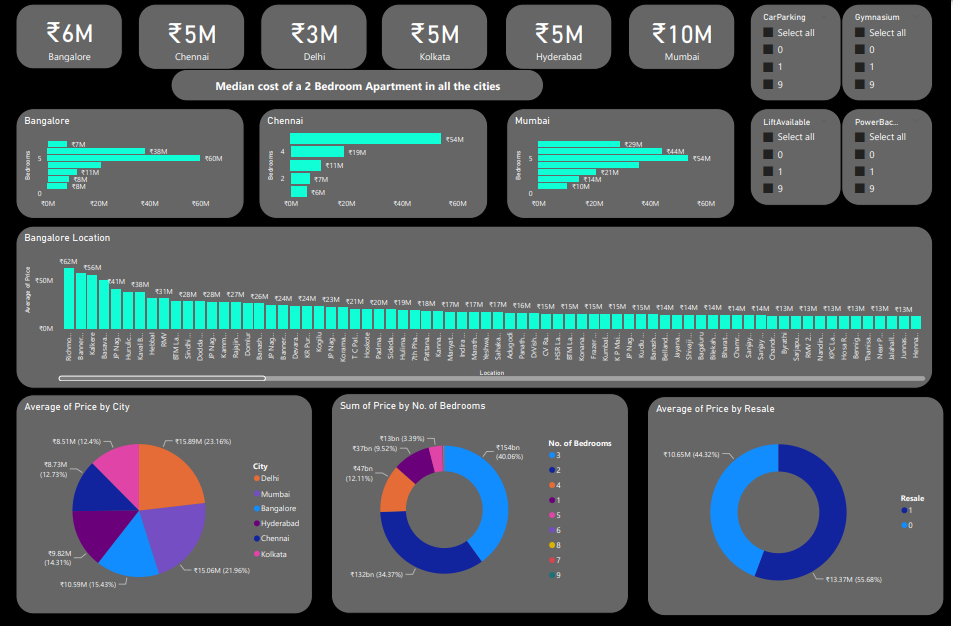

This screenshot's page, from the dashboard's own definition file:
{"tool":"powerbi","page":{"name":"Page 1","canvas":[1600,1200],"ordinal":0},"visuals":[{"type":"card","title":"Bangalore","fields":{"Values":["Median(All_City.Price)"]},"box":[25.5,38.3,180,110],"z":0},{"type":"card","title":"Bangalore","fields":{"Values":["Median(All_City.Price)"]},"box":[232.4,38.3,180,110.6],"z":1},{"type":"card","title":"Bangalore","fields":{"Values":["Median(All_City.Price)"]},"box":[438,38.3,180,110.6],"z":2},{"type":"card","title":"Bangalore","fields":{"Values":["Median(All_City.Price)"]},"box":[640.6,38.3,180,110.6],"z":3},{"type":"card","title":"Bangalore","fields":{"Values":["Median(All_City.Price)"]},"box":[850.4,38.3,180,110.6],"z":4},{"type":"card","title":"Bangalore","fields":{"Values":["Median(All_City.Price)"]},"box":[1057.3,38.3,180,110.6],"z":5},{"type":"textbox","box":[286.7,148.3,628.3,53.3],"z":6},{"type":"clusteredBarChart","title":"Bangalore","fields":{"Category":["All_City.No. of Bedrooms"],"Y":["Avg(All_City.Price)"]},"box":[25.5,214,385.5,185.7],"z":7},{"type":"clusteredBarChart","title":"Chennai","fields":{"Category":["All_City.No. of Bedrooms"],"Y":["Avg(All_City.Price)"]},"box":[435.1,214,385.5,185.7],"z":8},{"type":"clusteredBarChart","title":"Mumbai","fields":{"Y":["Avg(All_City.Price)"],"Category":["All_City.No. of Bedrooms"]},"box":[851.8,214,385.5,185.7],"z":9},{"type":"columnChart","title":"Bangalore Location","fields":{"Category":["All_City.Location"],"Y":["Avg(All_City.Price)"]},"box":[26,412,1544,274],"z":10},{"type":"slicer","fields":{"Values":["All_City.CarParking"]},"box":[1262,38,154,164],"z":11},{"type":"slicer","fields":{"Values":["All_City.Gymnasium"]},"box":[1416,38,154,164],"z":12},{"type":"slicer","fields":{"Values":["All_City.LiftAvailable"]},"box":[1262,214,154,164],"z":13},{"type":"slicer","fields":{"Values":["All_City.PowerBackup"]},"box":[1416,214,154,164],"z":14},{"type":"pieChart","fields":{"Category":["All_City.City"],"Y":["Avg(All_City.Price)"]},"box":[26,696,500,370],"z":15},{"type":"donutChart","fields":{"Y":["Sum(All_City.Price)"],"Category":["All_City.No. of Bedrooms"]},"box":[557.5,694.5,500.8,370.9],"z":16},{"type":"donutChart","fields":{"Category":["All_City.Resale"],"Y":["Avg(All_City.Price)"]},"box":[1089,699.2,500,370],"z":17}]}

Visuals, with their boxes on the page's 1600x1200 design canvas (x1, y1, x2, y2). These are canvas units, not pixel positions in the 953x626 screenshot, which may show the page scaled, cropped or inside an application window:
"Bangalore" card: (x1=26, y1=38, x2=206, y2=148)
"Bangalore" card: (x1=232, y1=38, x2=412, y2=149)
"Bangalore" card: (x1=438, y1=38, x2=618, y2=149)
"Bangalore" card: (x1=641, y1=38, x2=821, y2=149)
"Bangalore" card: (x1=850, y1=38, x2=1030, y2=149)
"Bangalore" card: (x1=1057, y1=38, x2=1237, y2=149)
textbox: (x1=287, y1=148, x2=915, y2=202)
"Bangalore" clusteredBarChart: (x1=26, y1=214, x2=411, y2=400)
"Chennai" clusteredBarChart: (x1=435, y1=214, x2=821, y2=400)
"Mumbai" clusteredBarChart: (x1=852, y1=214, x2=1237, y2=400)
"Bangalore Location" columnChart: (x1=26, y1=412, x2=1570, y2=686)
slicer - All_City.CarParking: (x1=1262, y1=38, x2=1416, y2=202)
slicer - All_City.Gymnasium: (x1=1416, y1=38, x2=1570, y2=202)
slicer - All_City.LiftAvailable: (x1=1262, y1=214, x2=1416, y2=378)
slicer - All_City.PowerBackup: (x1=1416, y1=214, x2=1570, y2=378)
pieChart - All_City.City x Avg(All_City.Price): (x1=26, y1=696, x2=526, y2=1066)
donutChart - Sum(All_City.Price) x All_City.No. of Bedrooms: (x1=558, y1=694, x2=1058, y2=1065)
donutChart - All_City.Resale x Avg(All_City.Price): (x1=1089, y1=699, x2=1589, y2=1069)
